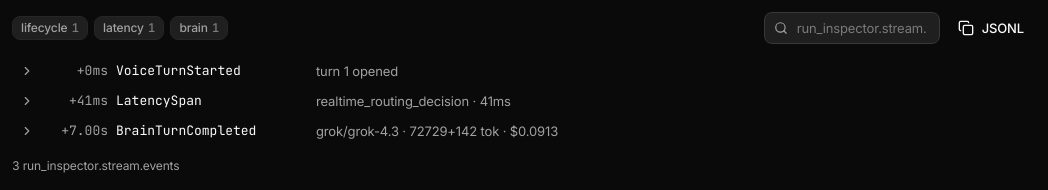
Test: EventStream › filters by free text across kind, summary and payload
Type "grok" into the field with test id "event-filter" at (852, 28), box [764, 12, 940, 44]
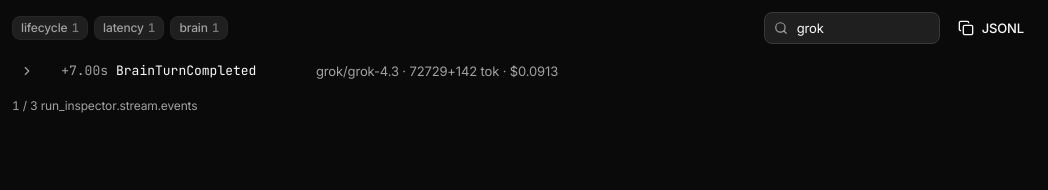
Expected: the text "BrainTurnCompleted" is shown, [116, 62, 256, 79]
Now the number of list items is 1, box [12, 56, 1036, 86]
